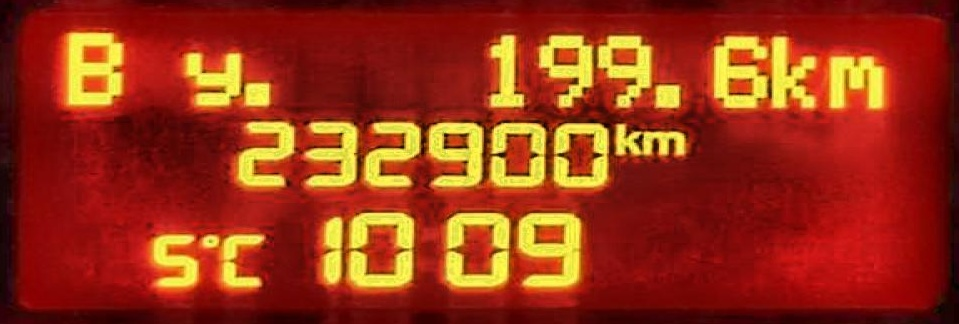-: (650, 76, 682, 110), (243, 77, 272, 108)
0: (435, 208, 510, 289), (345, 206, 417, 290), (484, 118, 549, 188), (550, 119, 609, 190)
1: (480, 29, 529, 108), (310, 211, 344, 286)
2: (225, 116, 297, 190), (358, 113, 422, 189)
3: (299, 116, 359, 189)
5: (140, 229, 200, 289)
6: (703, 31, 767, 110)
9: (512, 208, 582, 289), (532, 29, 593, 109), (593, 28, 652, 109), (422, 116, 485, 189)
X: (55, 24, 130, 113), (765, 29, 819, 110), (175, 45, 242, 110), (822, 50, 885, 111), (217, 230, 267, 289), (642, 125, 685, 156), (609, 119, 640, 156)
